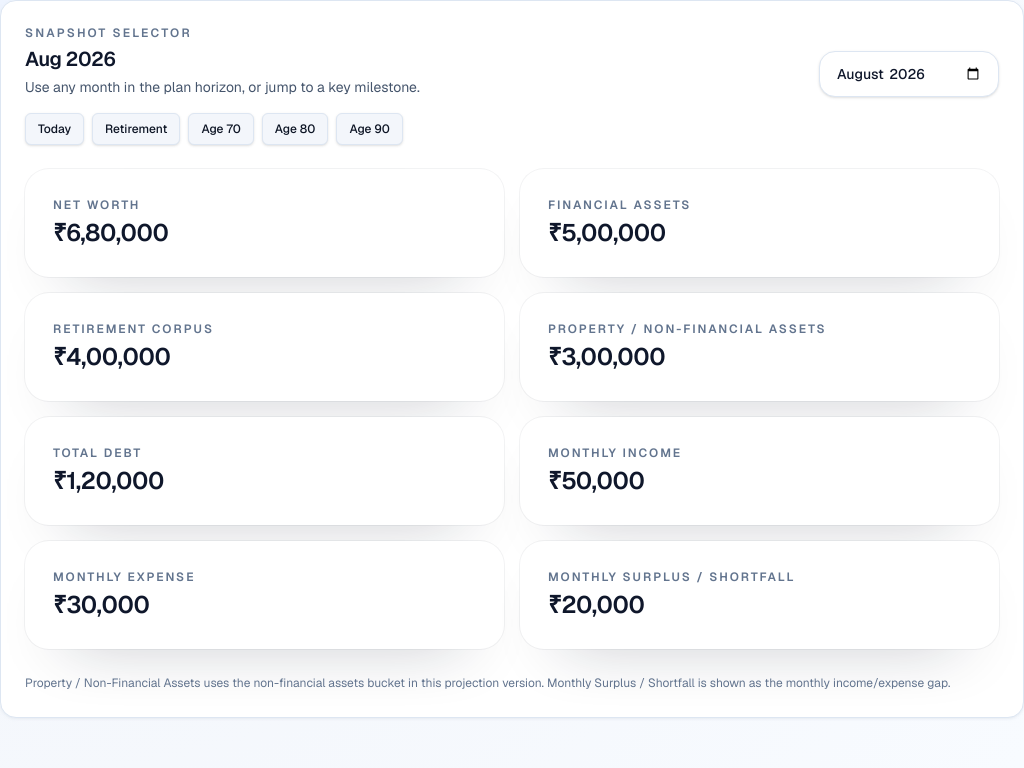
Test: ProjectionSnapshotSelector › updates the displayed snapshot when the month changes and when quick jumps are used
Expected: the heading "Aug 2026" is shown, x1=25 y1=46 x2=115 y2=72
Expected: the text "Property / Non-Financial Assets" is shown, x1=548 y1=321 x2=826 y2=337
Replace the text in the field showing "2026-08" with "2026-09" at point(909, 74), box x1=819 y1=51 x2=999 y2=97
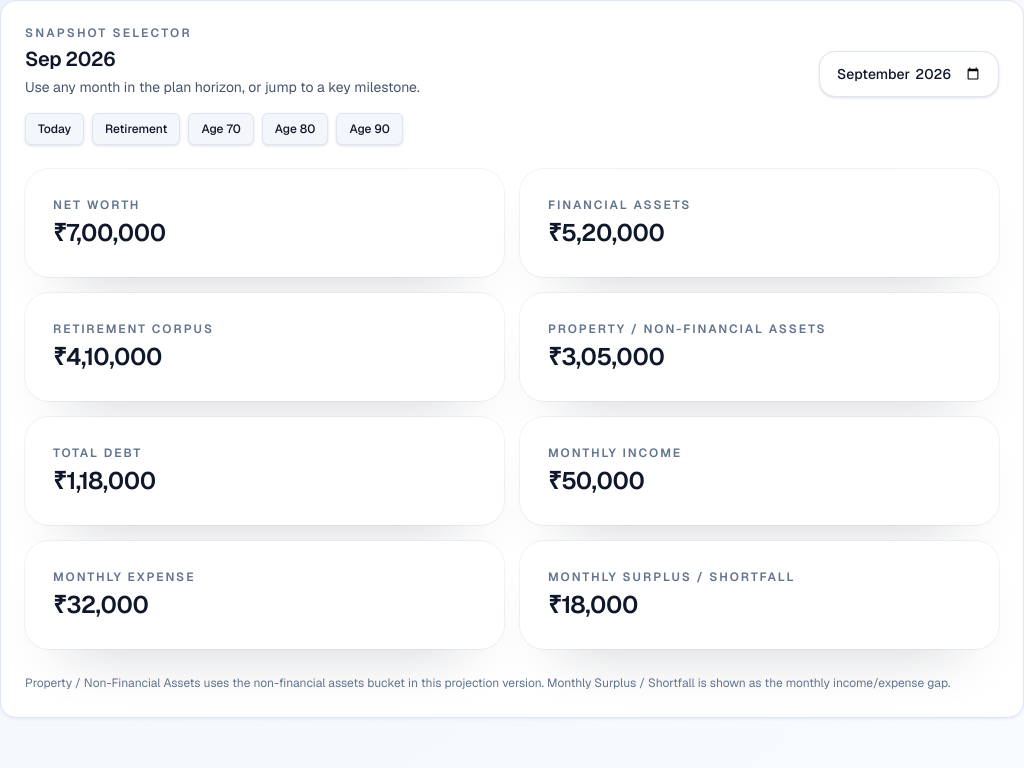
Expected: the heading "Sep 2026" is shown, x1=25 y1=46 x2=115 y2=72
Expected: the text "₹7,00,000" is shown, x1=53 y1=217 x2=166 y2=248
Expected: the text "₹18,000" is shown, x1=548 y1=589 x2=638 y2=620
Click the button "Retirement" at point(136, 129), box x1=92 y1=113 x2=180 y2=145
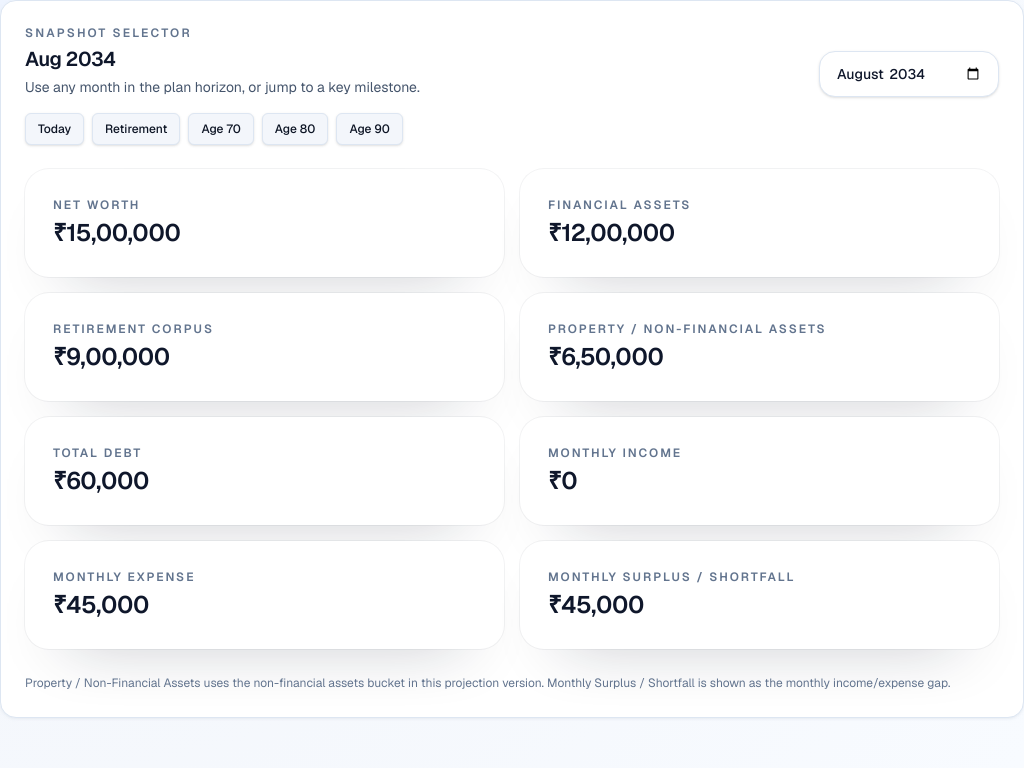
Expected: the text "₹45,000" is shown 2 times, x1=53 y1=589 x2=149 y2=620; x1=548 y1=589 x2=644 y2=620
Expected: the heading "Aug 2034" is shown, x1=25 y1=46 x2=116 y2=72
Expected: the text "₹15,00,000" is shown, x1=53 y1=217 x2=180 y2=248
